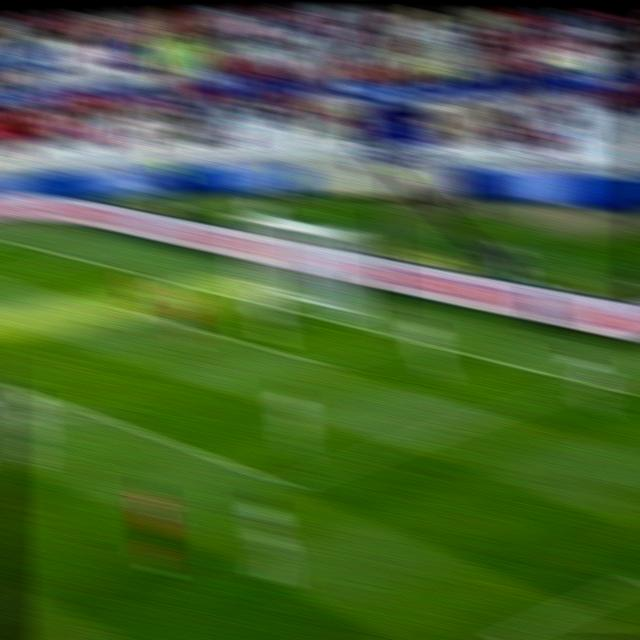bigarea_bottom_inner: (271, 471, 305, 499)
bigarea_bottom_outter: (564, 365, 618, 404)
bigarea_top_outter: (62, 246, 98, 272)
bottom_arc_area_intersection: (74, 401, 112, 428)
smallarea_bottom_inner: (308, 352, 338, 374)
smallarea_bottom_outter: (388, 327, 424, 352)
smallarea_top_inner: (85, 291, 132, 319)
smallarea_top_outter: (171, 279, 202, 294)
